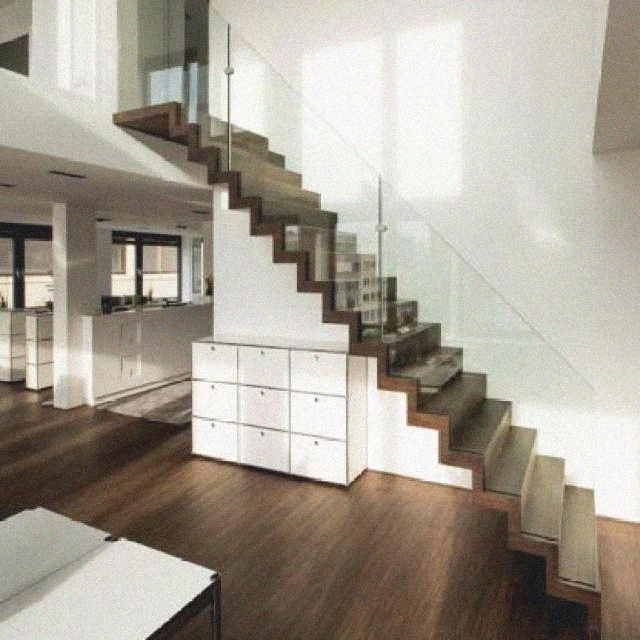stair: (111, 72, 625, 639)
